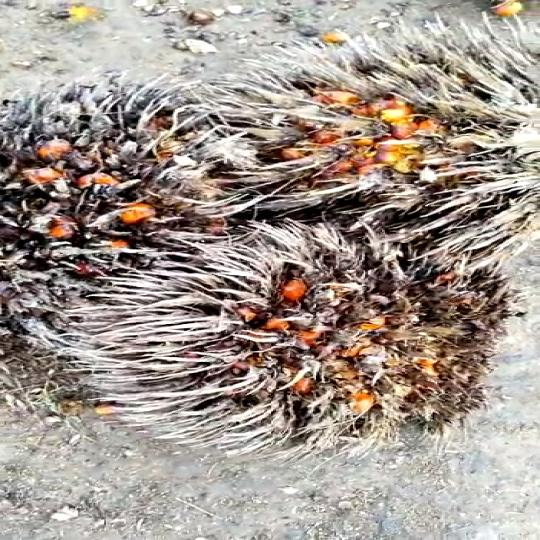terlalu masak: (38, 222, 533, 442), (176, 50, 540, 246)
